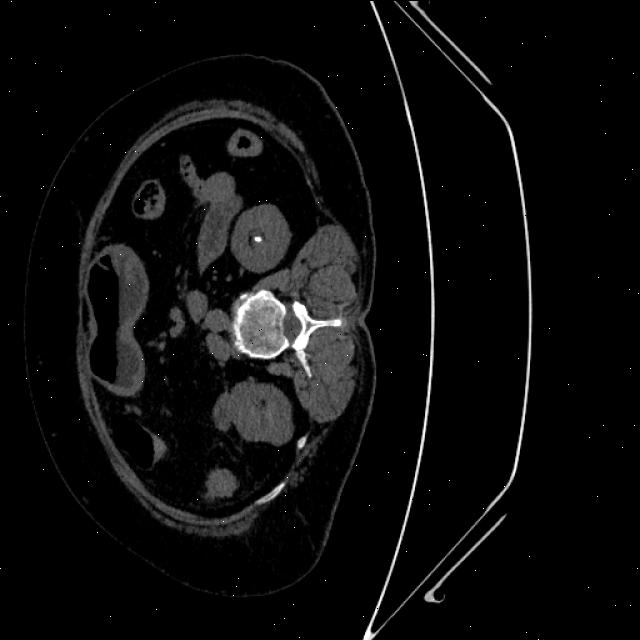kidneystone: (248, 232, 263, 245)
